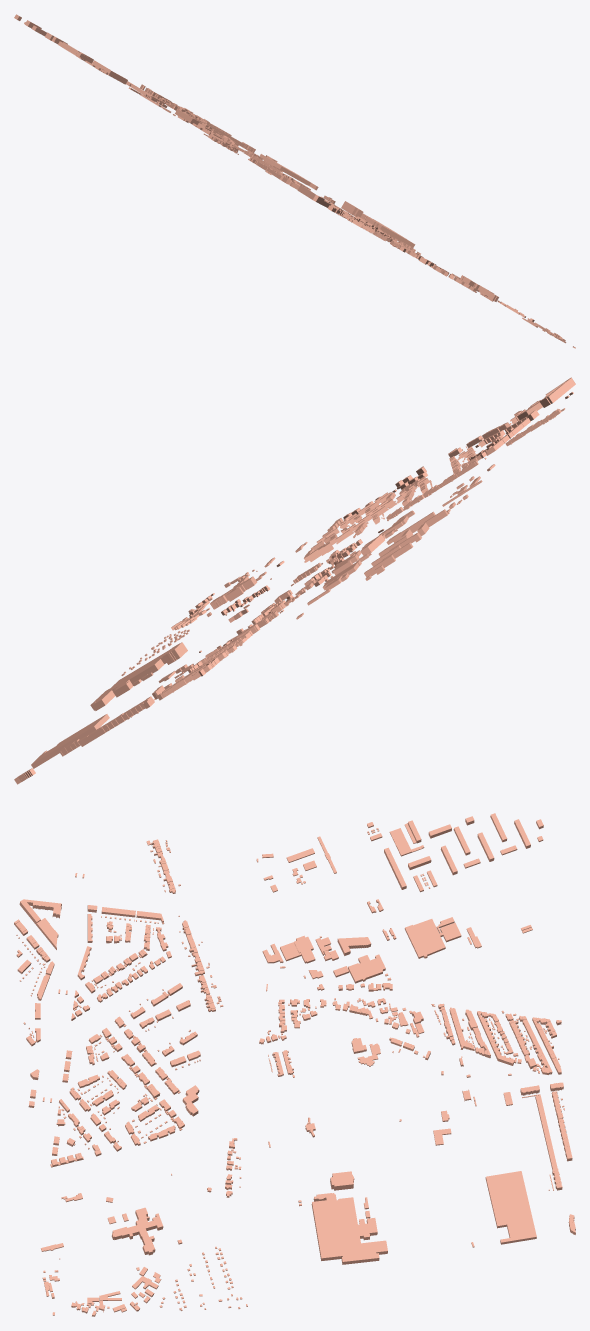
3 views of the same model, one above another, from view 1: azimuth 30°, elevation 25°; view 2: azimuth 150°, elevation 25°; view 3: azimuth 270°, elevation 25° (orthographic). The views are drawn at different scales.
Bounding box in the file's own units: 1046 × 764 × 1261.
